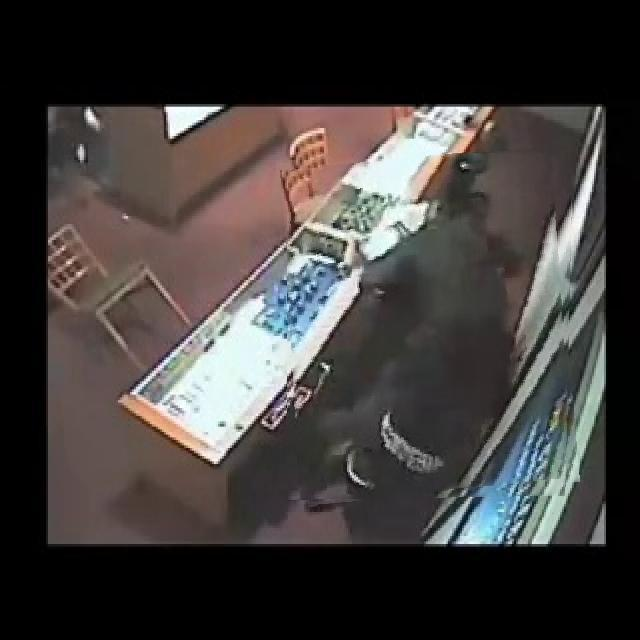Shoplifting: (287, 153, 573, 500)
